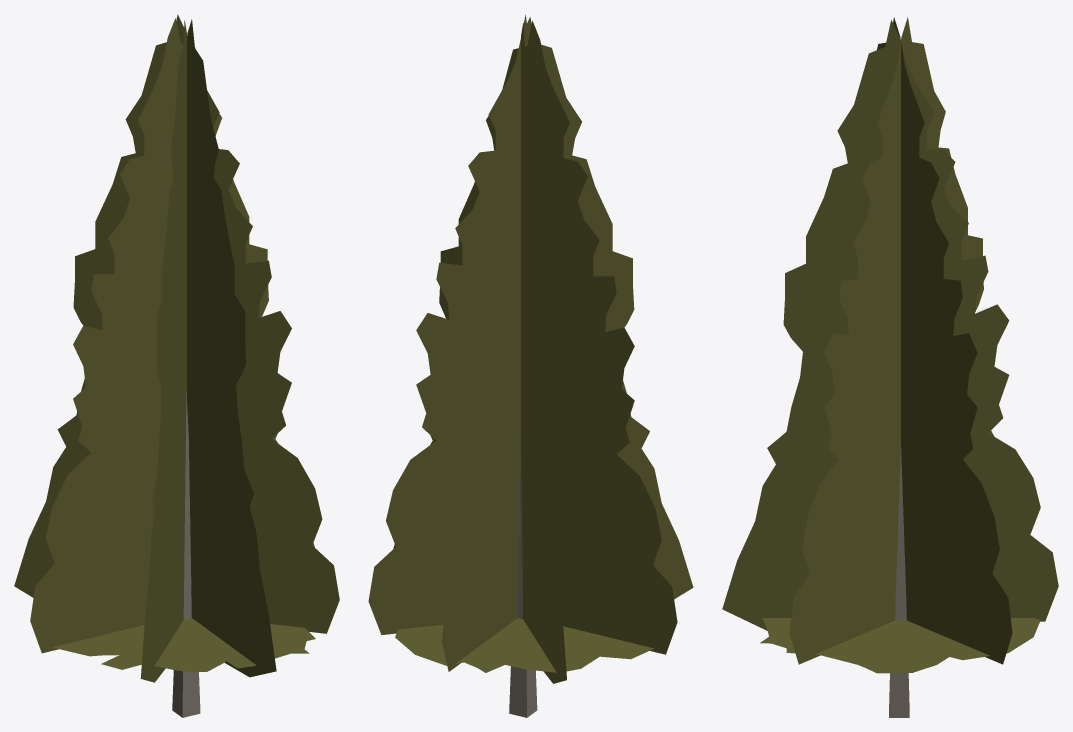
The model's file is Tree4.fbx.
The picture shows the model from 3 angles, left to right: view 1: azimuth 30°, elevation 25°; view 2: azimuth 150°, elevation 25°; view 3: azimuth 270°, elevation 25°; orthographic projection.
Visible parts, largest first — view 1: Flat_half_tree.004; view 2: Flat_half_tree.004; view 3: Flat_half_tree.004.
Boxes of the visible parts, left/top/right/bottom form: Flat_half_tree.004: left=14, top=14, right=339, bottom=717; Flat_half_tree.004: left=368, top=15, right=693, bottom=717; Flat_half_tree.004: left=722, top=17, right=1058, bottom=717.
Bounding box in the file's own units: 3.23 × 7.35 × 3.23.
